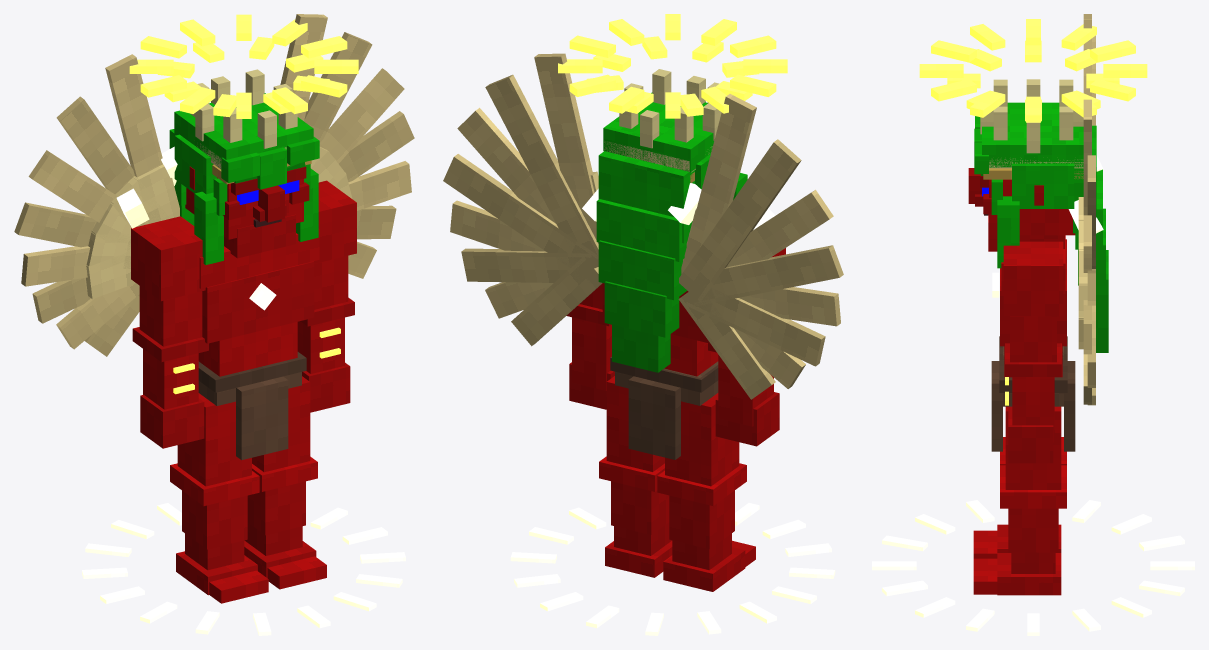
Rendered from angel_s1_evo3.glb.
The picture shows the model from 3 angles, left to right: view 1: azimuth 30°, elevation 25°; view 2: azimuth 150°, elevation 25°; view 3: azimuth 270°, elevation 25°; orthographic projection.
Parts seen in each view (by area): view 1: Torso, Head, ArmR, LegR, LegL, ArmL, Root; view 2: Torso, Head, LegR, LegL, Root, ArmL, ArmR; view 3: Head, ArmL, LegL, Torso, Root, LegR.
Part boxes in pixels (x1,y1,x2,y2): Torso: [14, 14, 414, 460]; Head: [129, 14, 358, 264]; ArmR: [131, 216, 208, 448]; LegR: [170, 393, 268, 603]; LegL: [244, 376, 326, 589]; ArmL: [297, 180, 356, 412]; Root: [82, 503, 405, 635]; Torso: [443, 53, 843, 459]; Head: [558, 14, 787, 372]; LegR: [657, 393, 755, 591]; LegL: [599, 376, 672, 577]; Root: [510, 503, 835, 635]; ArmL: [566, 283, 614, 409]; ArmR: [708, 248, 785, 446]; Head: [919, 19, 1147, 352]; ArmL: [1003, 241, 1063, 463]; LegL: [973, 406, 1066, 595]; Torso: [991, 14, 1103, 451]; Root: [872, 500, 1194, 635]; LegR: [973, 437, 1066, 558].
Size of the model in its own units: 1.63 by 2.02 by 1.16.
Materials: 29 (29 with a texture image).
